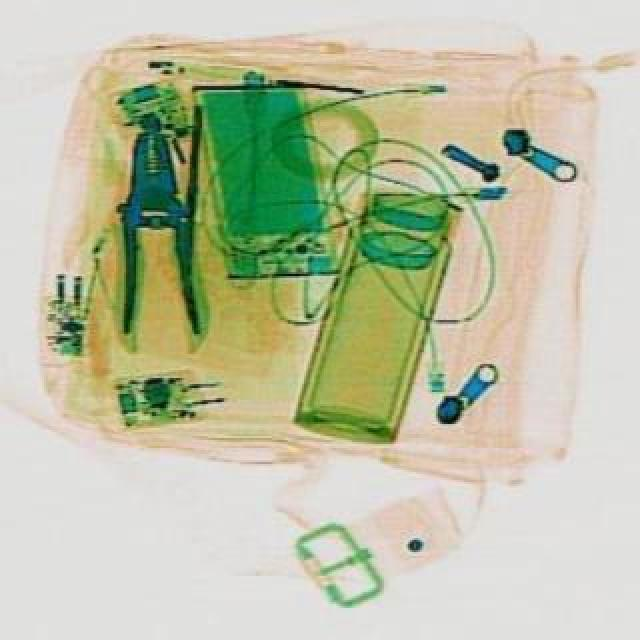wrench: (112, 128, 196, 334)
